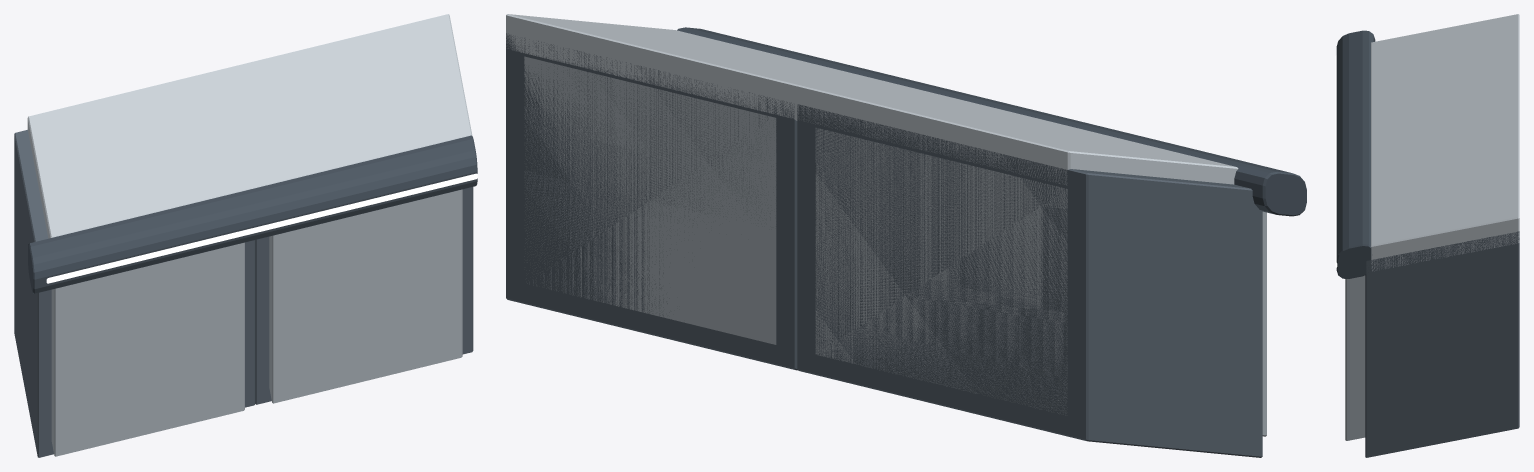
The model's file is Terrain_TopRun2L.gltf.
3 renders of one model, left to right at view 1: azimuth 30°, elevation 25°; view 2: azimuth 150°, elevation 25°; view 3: azimuth 270°, elevation 25°, orthographic. The views are drawn at different scales.
Visible parts, largest first — view 1: Terrain_TopRun2L_baked; view 2: Terrain_TopRun2L_baked; view 3: Terrain_TopRun2L_baked.
Boxes of the visible parts, x1,y1,x2,y2 form: Terrain_TopRun2L_baked: (14,14,477,457); Terrain_TopRun2L_baked: (506,14,1306,457); Terrain_TopRun2L_baked: (1335,14,1519,457).
Size of the model in its own units: 2.33 by 1.18 by 0.74.
